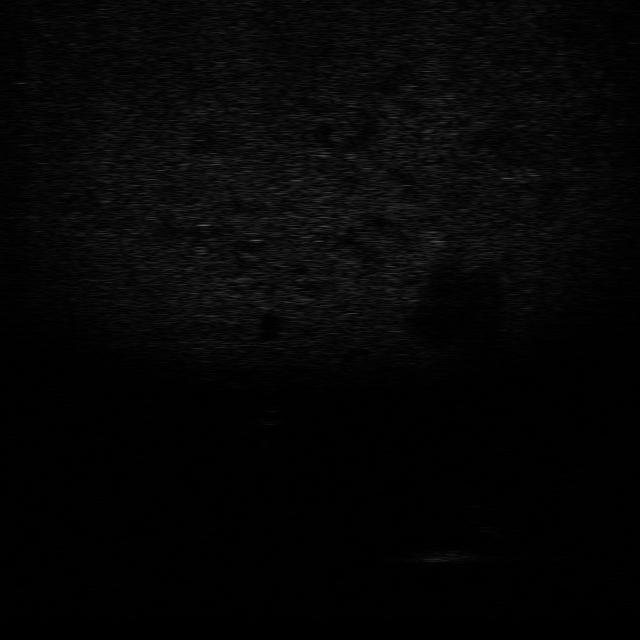ball: (252, 406, 288, 426)
metal bucket: (408, 541, 477, 566)
tyre: (458, 499, 514, 534)
